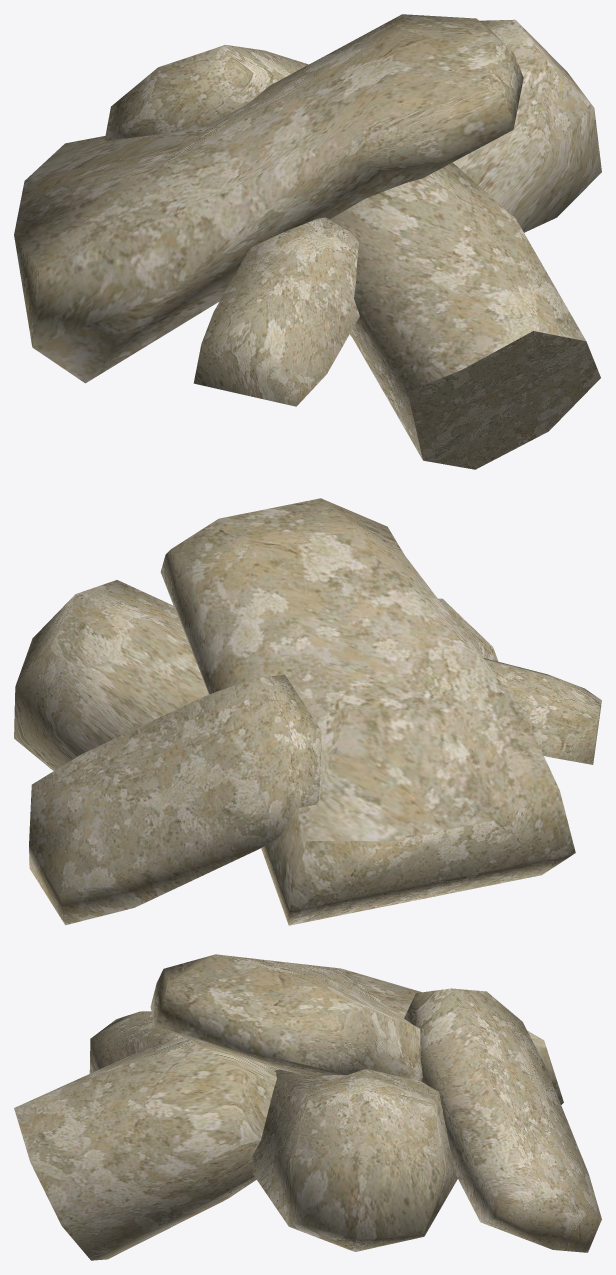
The model's file is rock_formation_a2_l1.fbx.
The picture shows the model from 3 angles, top to bottom: view 1: azimuth 30°, elevation 25°; view 2: azimuth 150°, elevation 25°; view 3: azimuth 270°, elevation 25°; orthographic projection. The views are drawn at different scales.
Visible parts, largest first — view 1: mesh_node; view 2: mesh_node; view 3: mesh_node.
Boxes of the visible parts, x1=… form: mesh_node: x1=14, y1=14, x2=601, y2=469; mesh_node: x1=14, y1=498, x2=601, y2=925; mesh_node: x1=14, y1=954, x2=601, y2=1260.
Size of the model in its own units: 11.04 by 6.32 by 11.4.
